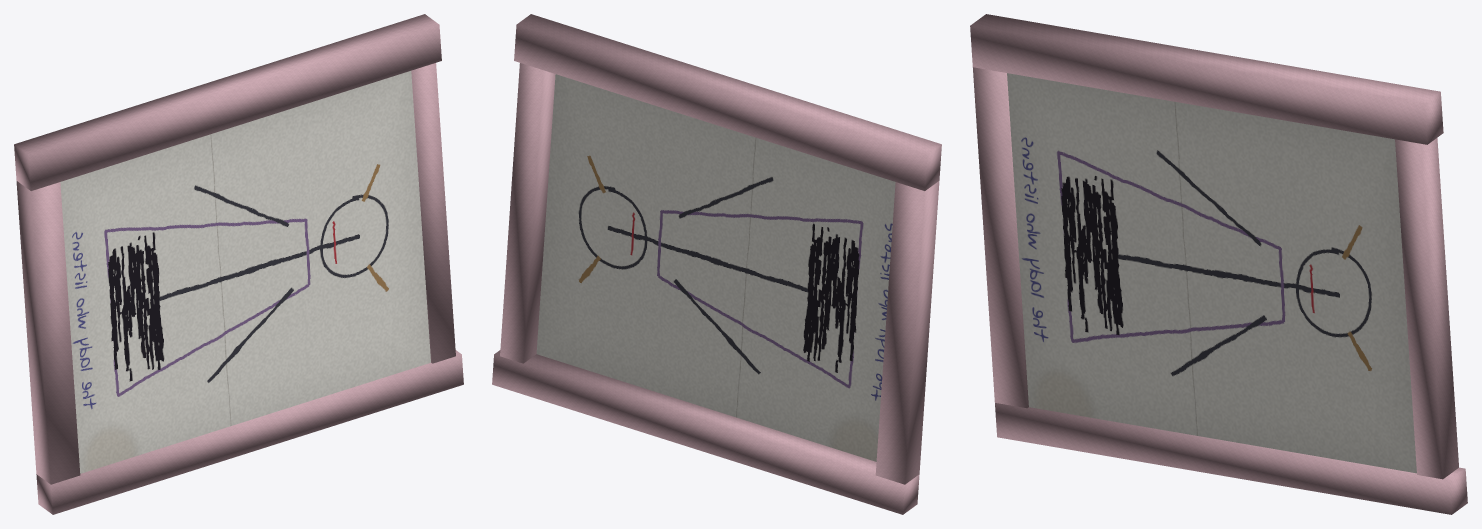
The model's file is Cadre_lady.glb.
3 renders of one model, left to right at view 1: azimuth 30°, elevation 25°; view 2: azimuth 150°, elevation 25°; view 3: azimuth 330°, elevation 25°, orthographic. The views are drawn at different scales.
Visible parts, largest first — view 1: Dessin, Cadre; view 2: Dessin, Cadre; view 3: Dessin, Cadre.
Boxes of the visible parts, box(x1,y1,x2,y2) form: Dessin: box(60, 71, 430, 473); Cadre: box(14, 14, 463, 514); Dessin: box(536, 74, 895, 461); Cadre: box(492, 14, 941, 514); Dessin: box(1007, 73, 1416, 473); Cadre: box(970, 14, 1467, 514).
Bounding box in the file's own units: 0.5179 × 0.4502 × 0.03.
Materials: 2 (2 with a texture image).
